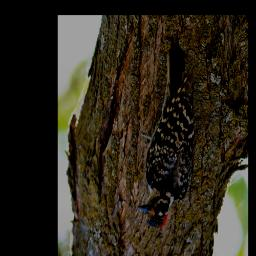Woodpecker: (138, 34, 190, 231)
